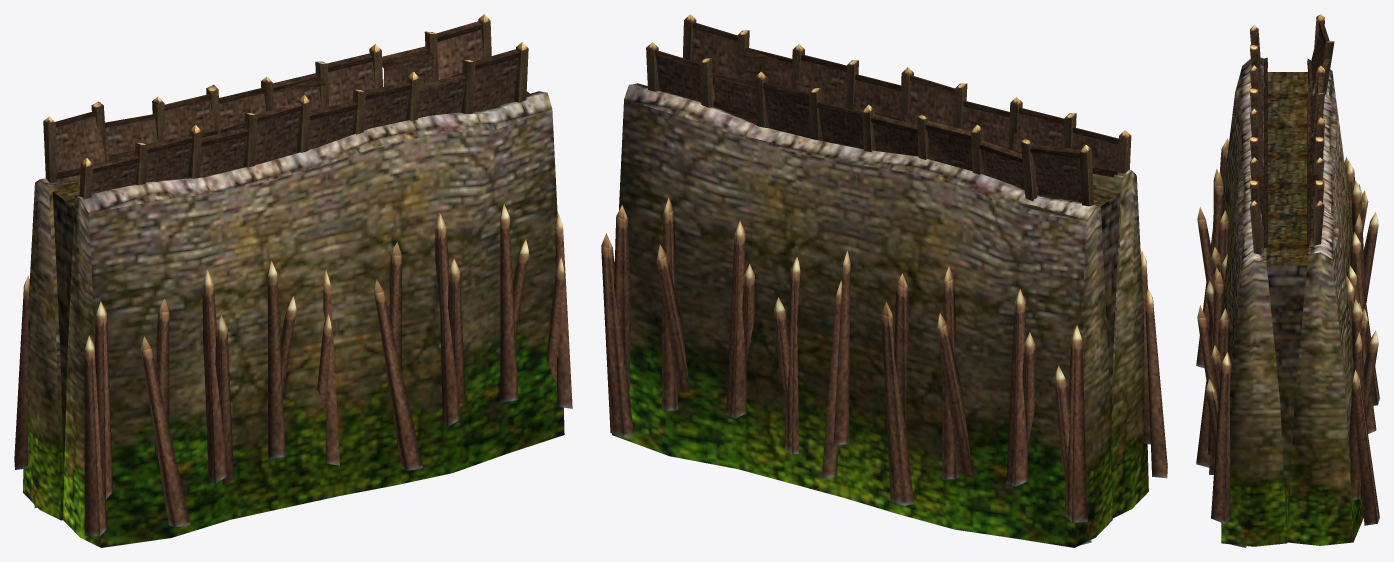
File: s_britons_wall_medium.glb
The picture shows the model from 3 angles, left to right: view 1: azimuth 30°, elevation 25°; view 2: azimuth 150°, elevation 25°; view 3: azimuth 270°, elevation 25°; orthographic projection. The views are drawn at different scales.
Parts seen in each view (by area): view 1: s_britons_wall_medium_part0; view 2: s_britons_wall_medium_part0; view 3: s_britons_wall_medium_part0.
Boxes of the visible parts, x1,y1,x2,y2 form: s_britons_wall_medium_part0: [14, 14, 572, 547]; s_britons_wall_medium_part0: [601, 14, 1167, 547]; s_britons_wall_medium_part0: [1196, 14, 1379, 547].
Bounding box in the file's own units: 6.32 × 4.9 × 2.37.
1 material, 1 textured.
